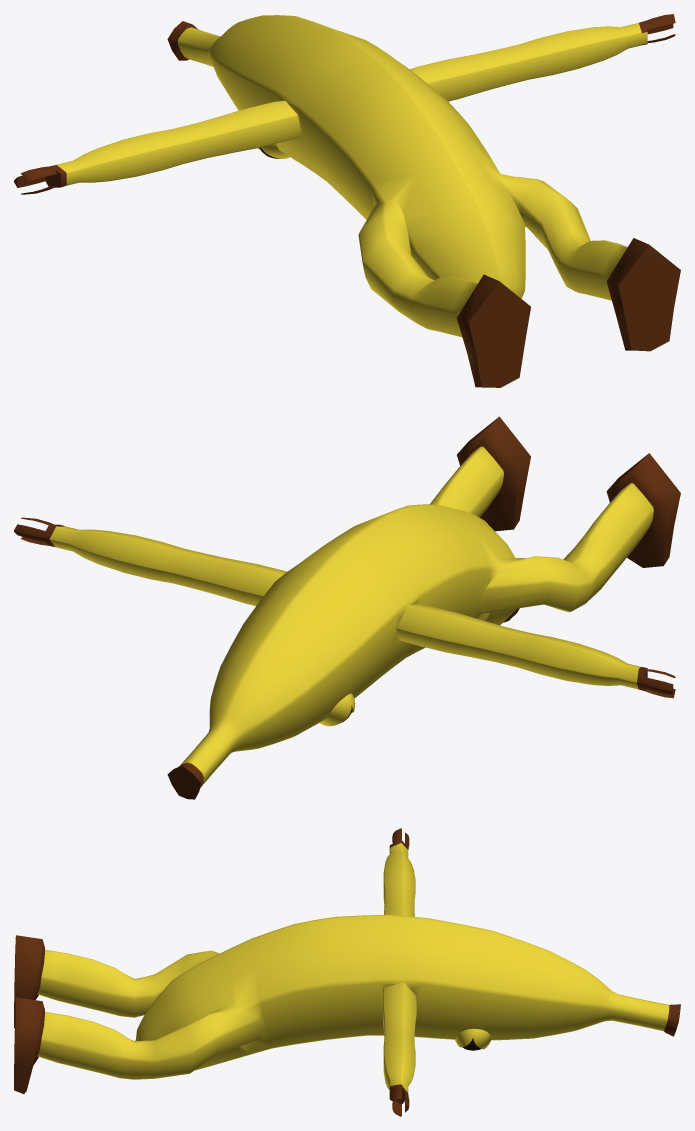
Rendered from Banana_Blink_WIP.fbx.
The picture shows the model from 3 angles, top to bottom: view 1: azimuth 30°, elevation 25°; view 2: azimuth 150°, elevation 25°; view 3: azimuth 270°, elevation 25°; orthographic projection. The views are drawn at different scales.
Parts seen in each view (by area): view 1: Banana; view 2: Banana, Eyelid.R; view 3: Banana, Eyelid.L.
Part boxes in pixels (left/top/right/bottom): Banana: left=14, top=14, right=680, bottom=387; Banana: left=14, top=416, right=680, bottom=799; Eyelid.R: left=319, top=693, right=355, bottom=726; Banana: left=14, top=828, right=680, bottom=1116; Eyelid.L: left=455, top=1028, right=491, bottom=1049.
Bounding box in the file's own units: 875 × 236 × 904.
